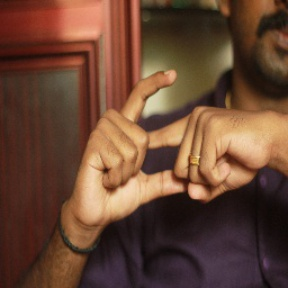E: (105, 70, 220, 208)
